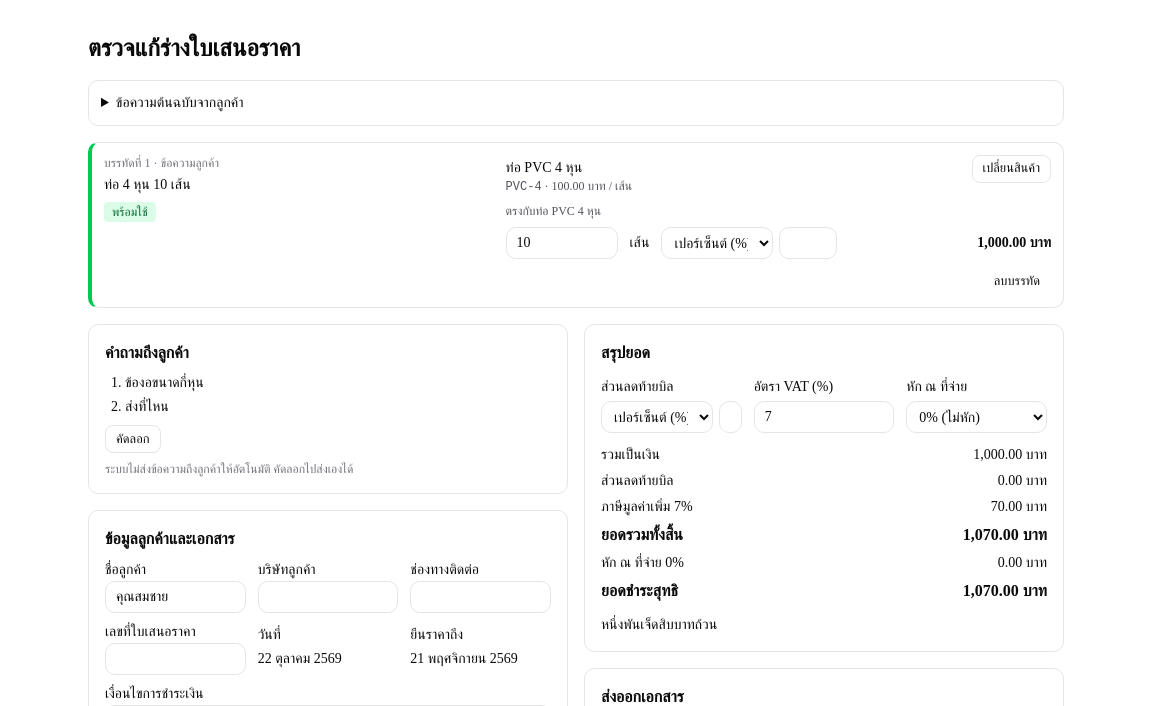
Test case: number inputs › shows a Thai error for an invalid quantity, does not store it, and restores the stored value on blur
In the field named "จำนวน บรรทัดที่ 1": x=562, y=243 [506,227,618,259], type "0"
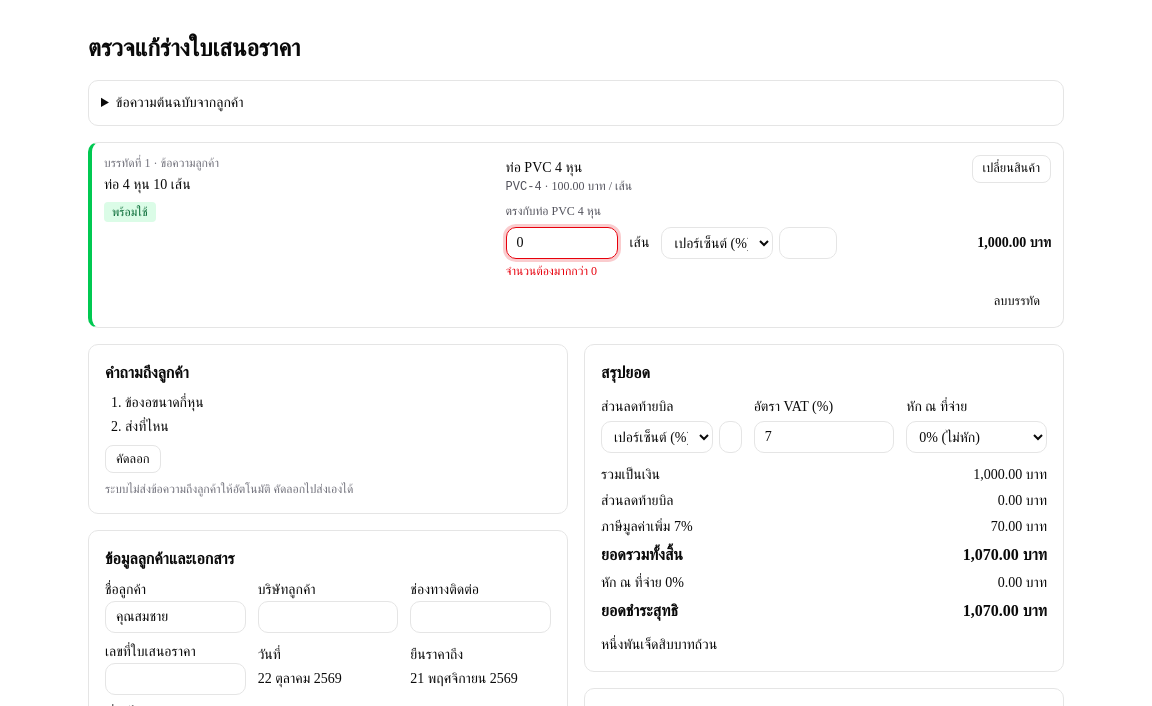
Result: the text "จำนวนต้องมากกว่า 0" is shown at [506,264,597,278]
Press Tab
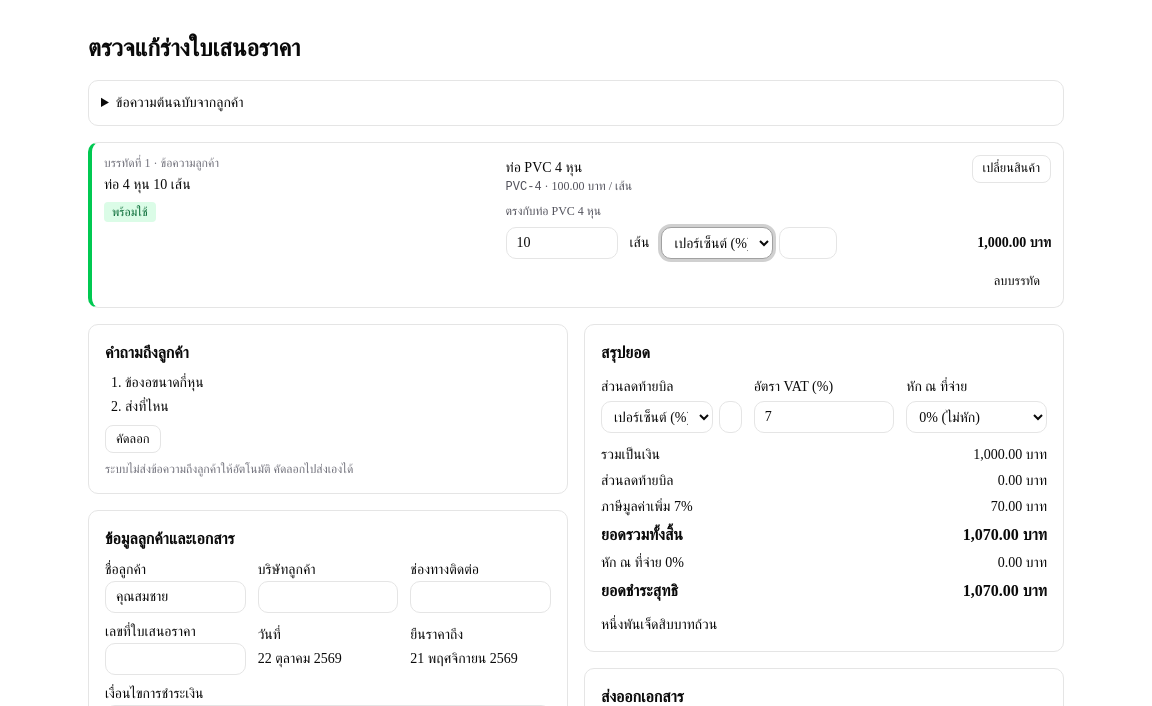
Result: the field named "จำนวน บรรทัดที่ 1" holds "10" at [506,227,618,259]
Result: the text "จำนวนต้องมากกว่า 0" is gone
